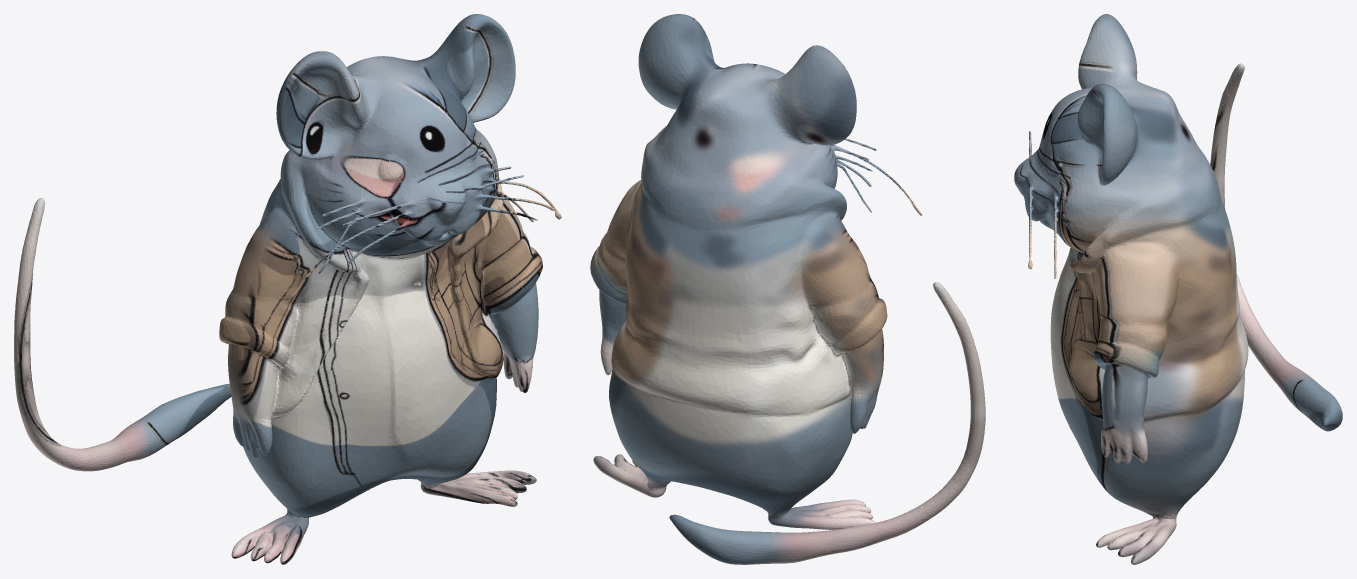
Rendered from gutterkin_townsperson_local.glb.
3 renders of one model, left to right at view 1: azimuth 30°, elevation 25°; view 2: azimuth 150°, elevation 25°; view 3: azimuth 270°, elevation 25°, orthographic. The views are drawn at different scales.
Parts seen in each view (by area): view 1: geometry_0; view 2: geometry_0; view 3: geometry_0.
Part boxes in pixels (x1=…): geometry_0: x1=14, y1=14, x2=561, y2=564; geometry_0: x1=590, y1=14, x2=985, y2=564; geometry_0: x1=1014, y1=14, x2=1342, y2=564.
Bounding box in the file's own units: 1.34 × 1.35 × 0.8962.
Materials: 1 (1 with a texture image).
